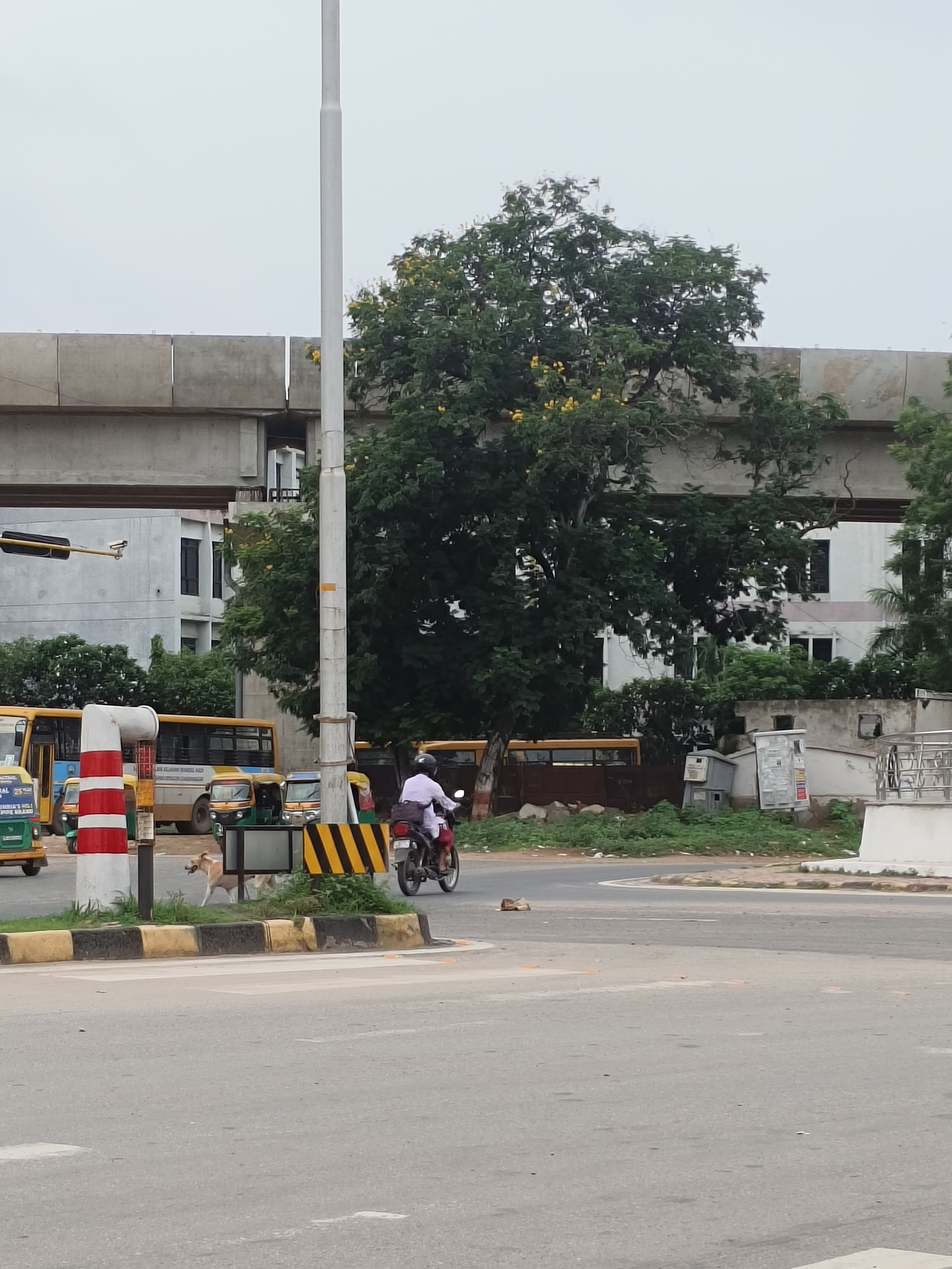BikeWithRider: (384, 750, 469, 895)
Helmet: (409, 751, 443, 781)
